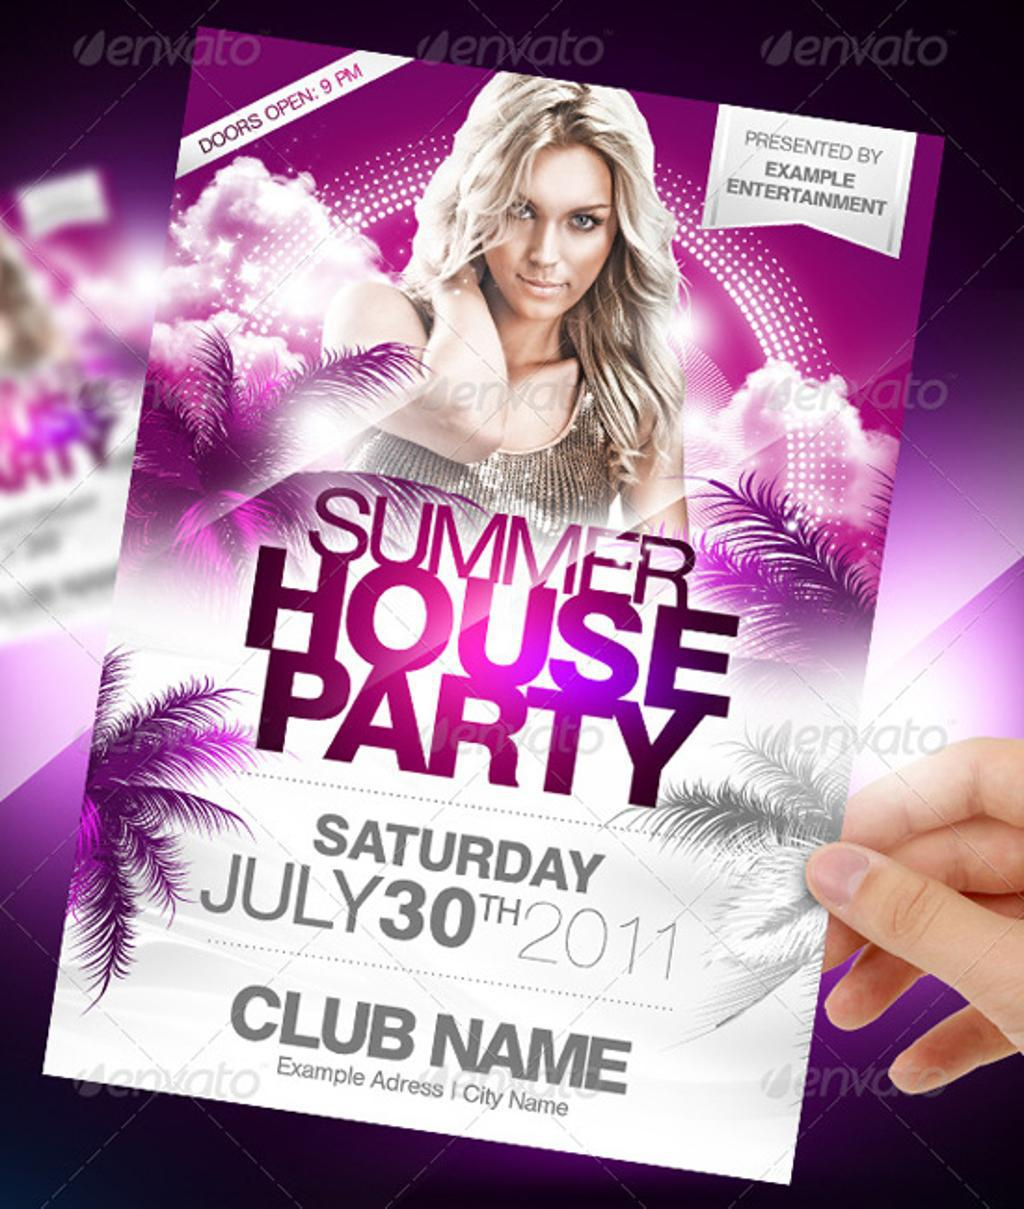face: (482, 147, 609, 322)
